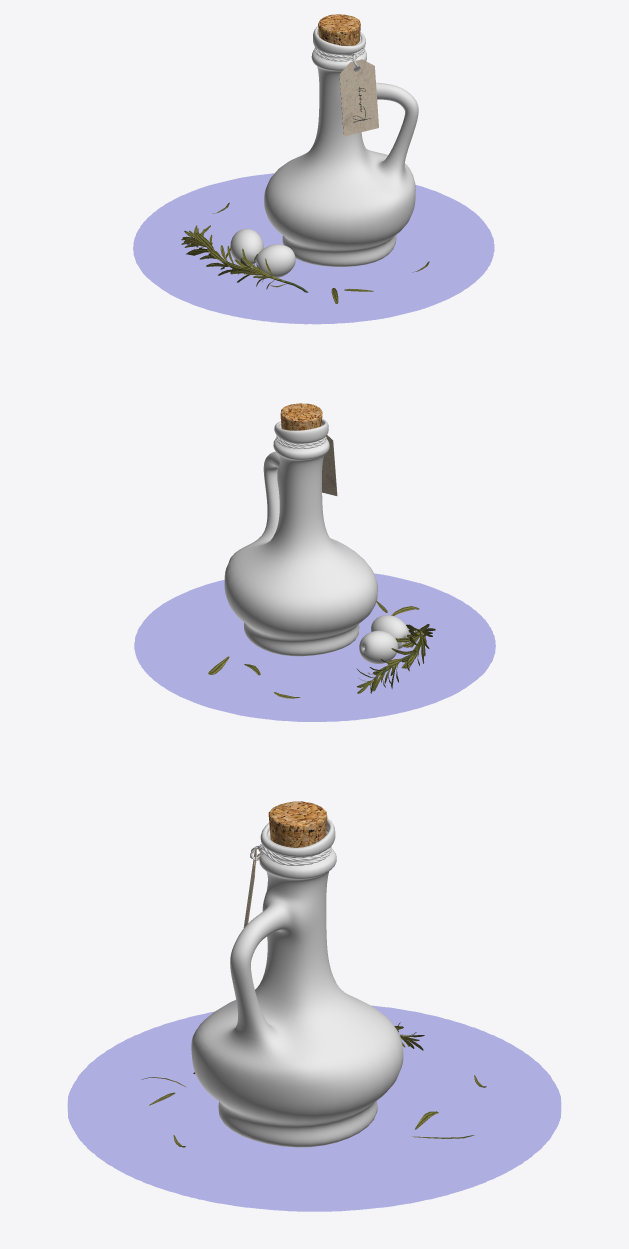
The model's file is bread.fbx.
3 renders of one model, top to bottom at view 1: azimuth 30°, elevation 25°; view 2: azimuth 150°, elevation 25°; view 3: azimuth 270°, elevation 25°, orthographic. The views are drawn at different scales.
Visible parts, largest first — view 1: Plane, Cube, Plane.001, Sphere.005, 01.001, Cube.003; view 2: Plane, Cube, Sphere.005, 01.001, Cube.003, Plane.001; view 3: Plane, Cube, Cube.003, rope.
Boxes of the visible parts, <box> form: Plane: <box>133,173,494,324</box>; Cube: <box>264,26,418,266</box>; Plane.001: <box>339,59,378,136</box>; Sphere.005: <box>230,228,295,278</box>; 01.001: <box>181,225,308,292</box>; Cube.003: <box>318,14,360,45</box>; Plane: <box>134,573,495,721</box>; Cube: <box>224,419,377,656</box>; Sphere.005: <box>359,615,409,663</box>; 01.001: <box>356,624,435,693</box>; Cube.003: <box>280,403,322,430</box>; Plane.001: <box>322,435,337,495</box>; Plane: <box>67,1005,561,1211</box>; Cube: <box>191,818,403,1147</box>; Cube.003: <box>268,801,327,847</box>; rope: <box>250,844,331,865</box>.
Size of the model in its own units: 570 by 329 by 570.
